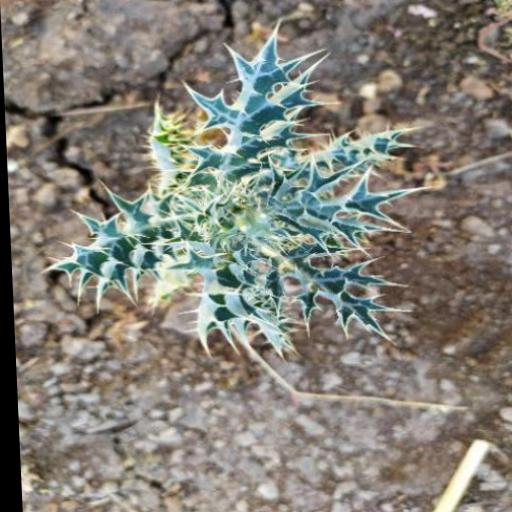weed: (38, 19, 430, 359)
